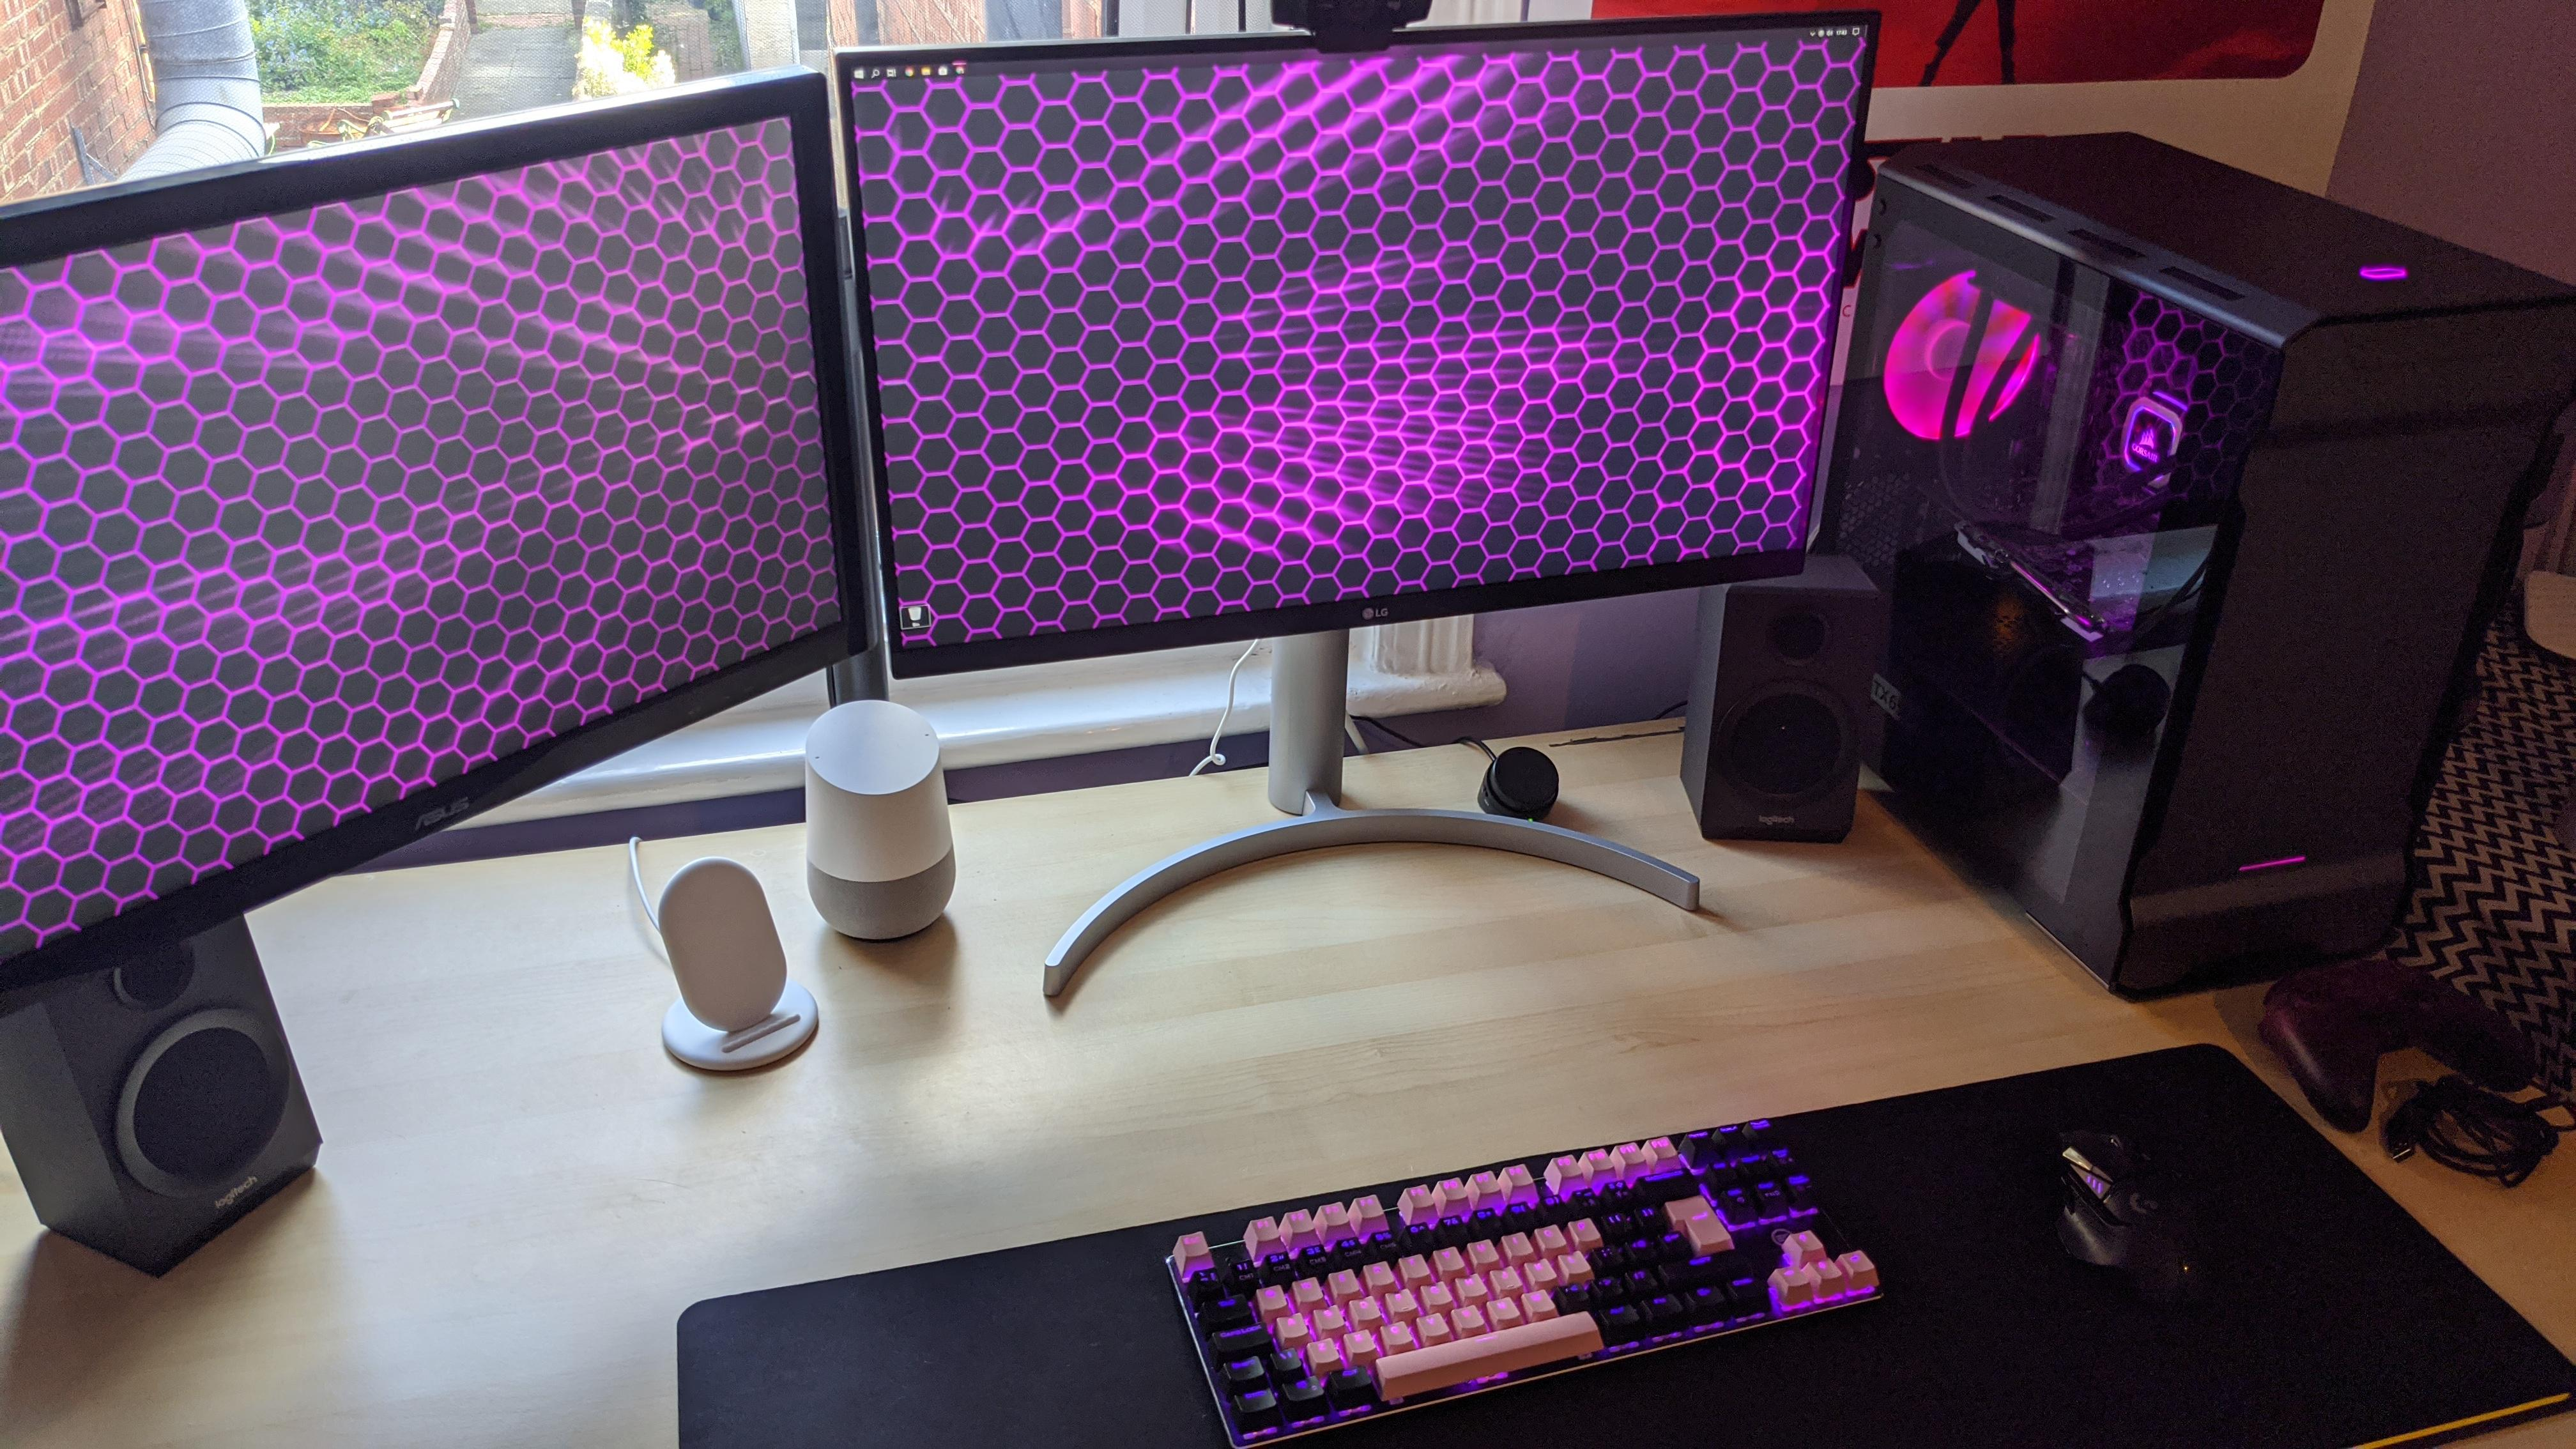Cellphone Charger (Wireless): (619, 842, 837, 1097)
Desk (Generic): (0, 676, 2572, 1445)
Desktop (Windows): (1859, 103, 2576, 1069)
External Speakers (Subwoofers): (0, 872, 331, 1288), (1677, 545, 1875, 855)
External Webcam: (1261, 0, 1449, 71)
Gaming Controller: (2226, 931, 2542, 1150)
IoT Devices (Raspberry, Arduino, etc): (782, 685, 982, 970)
Keyboard (Gaming): (1134, 1077, 1893, 1449)
Monitor (Landscape): (823, 0, 1888, 1026), (0, 53, 867, 987)
Mouse (Gaming): (2035, 1120, 2224, 1309)
Mousepad (Gaming): (651, 1049, 2576, 1447)
